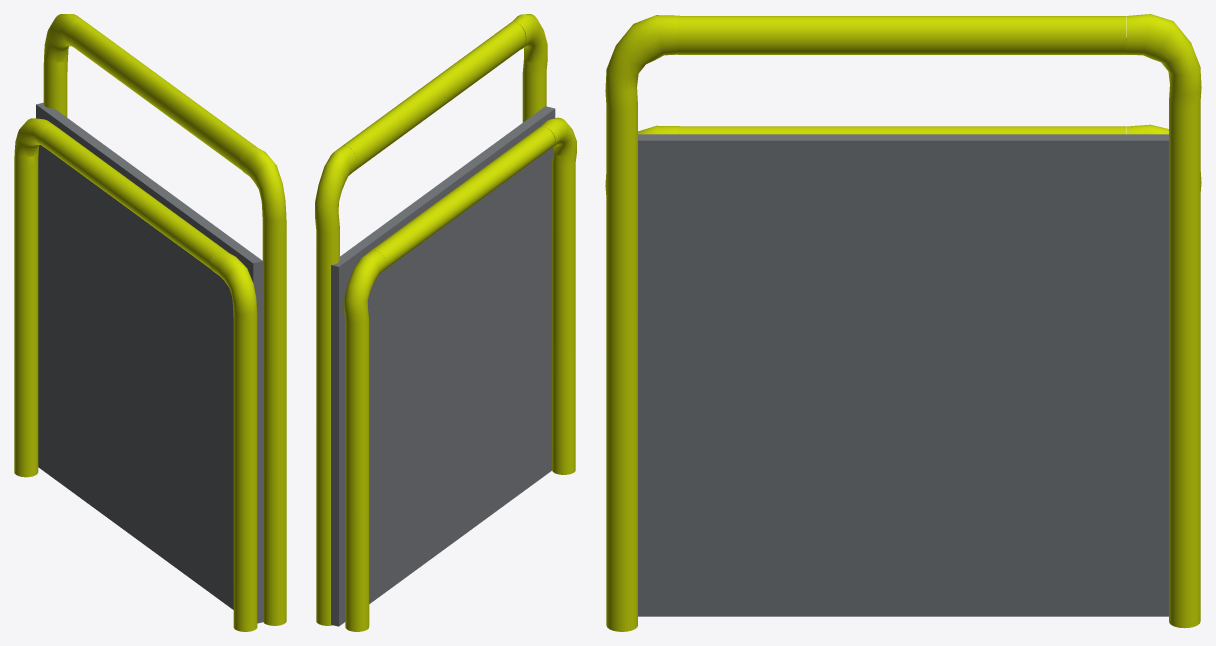
File: BarrierMIDDLE.fbx
3 views of the same model, side by side, from view 1: azimuth 30°, elevation 25°; view 2: azimuth 150°, elevation 25°; view 3: azimuth 270°, elevation 25° (orthographic). The views are drawn at different scales.
Parts seen in each view (by area): view 1: polySurface223; view 2: polySurface223; view 3: polySurface223.
Part boxes in pixels (bbox=[...]): polySurface223: bbox=[14, 14, 286, 631]; polySurface223: bbox=[315, 14, 576, 631]; polySurface223: bbox=[605, 14, 1201, 631].
Size of the model in its own units: 0.5133 by 4.03 by 3.59.
